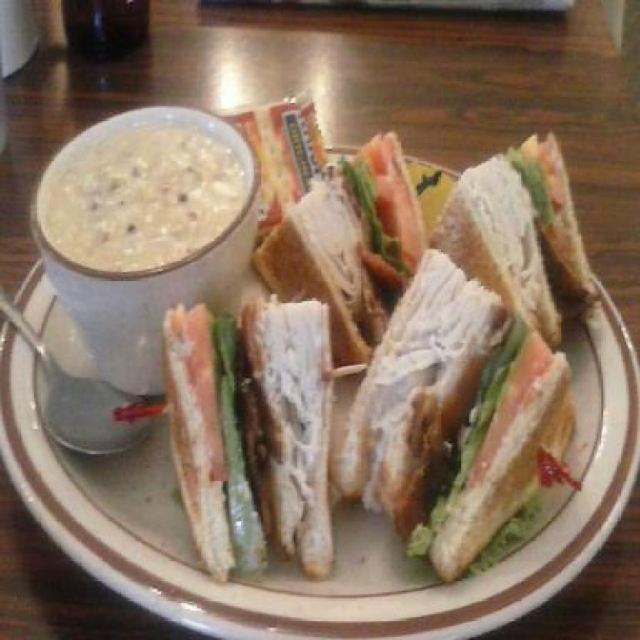clam chowder: (34, 98, 246, 332)
club sandwich: (182, 108, 588, 592)
